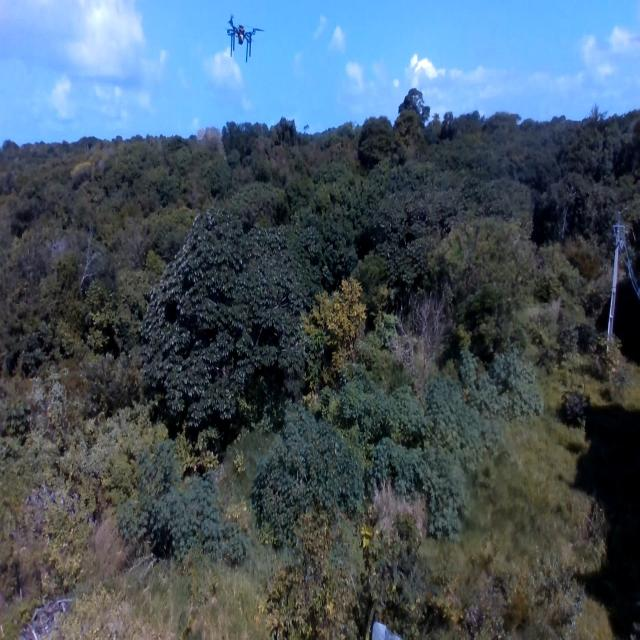-uav-: (220, 6, 269, 70)
